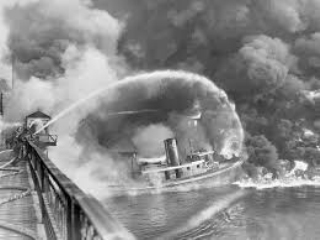smoke: (197, 7, 317, 146), (7, 7, 111, 97)
